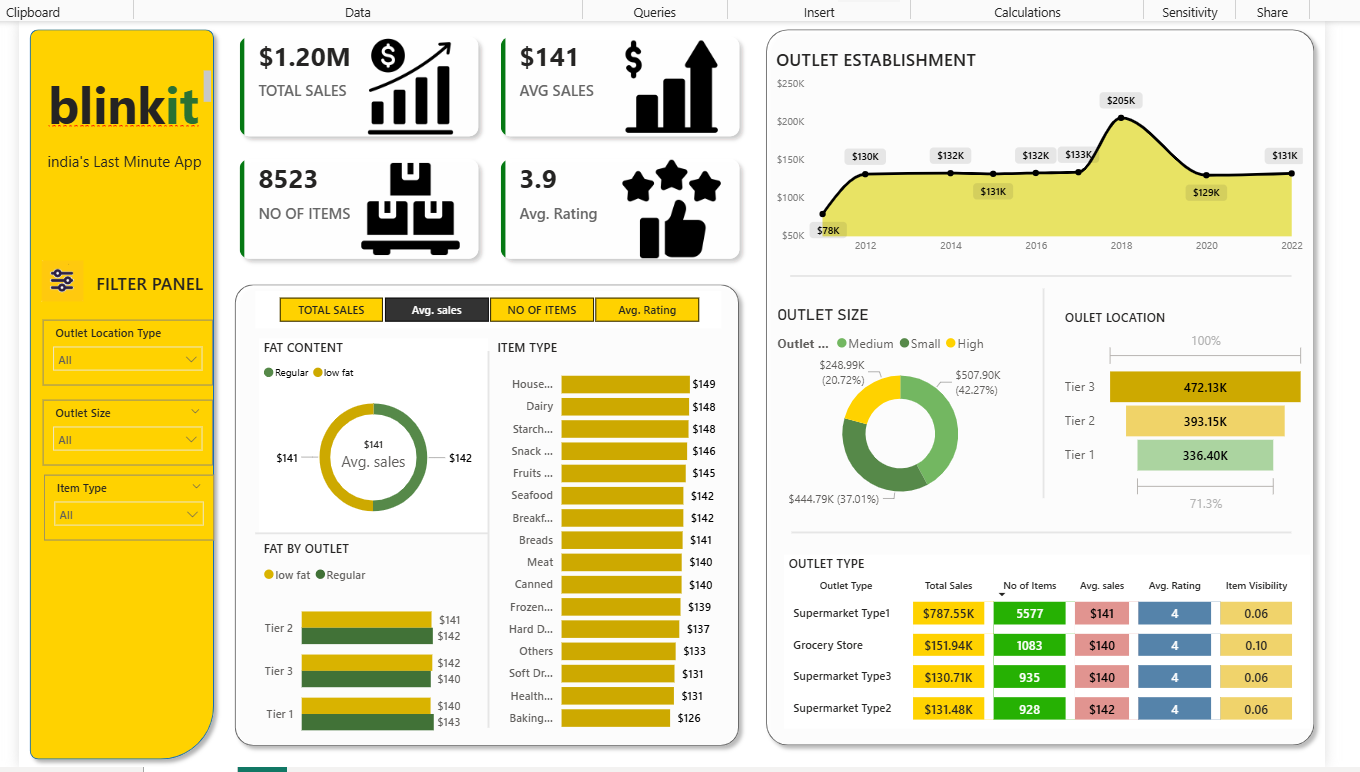

This screenshot's page, from the dashboard's own definition file:
{"tool":"powerbi","page":{"name":"Page 1","canvas":[1400,800],"ordinal":0},"visuals":[{"type":"shape","box":[2.2,0,215.4,801],"z":0},{"type":"textbox","box":[26.9,48.5,184,69.6],"z":1000},{"type":"textbox","box":[25,134.5,200,50],"z":2000},{"type":"shape","box":[222.9,272.9,558.6,512.9],"z":3000},{"type":"donutChart","title":"FAT CONTENT","fields":{"Y":["blinkit dataset.Avg. sales"],"Category":["blinkit dataset.Item Fat Content"]},"box":[257.1,340,245.7,210],"z":4000},{"type":"slicer","fields":{"Values":["Matrix.Matrix"]},"box":[252.9,290,500,40],"z":5000},{"type":"cardVisual","fields":{"Data":["blinkit dataset.TOTAL SALES","blinkit dataset.Avg. sales","blinkit dataset.NO OF ITEMS","blinkit dataset.Avg. Rating"]},"box":[220,0,570,272.5],"z":6000},{"type":"cardVisual","fields":{"Data":["blinkit dataset.Avg. sales"]},"box":[302.9,432.9,154.3,62.9],"z":7000},{"type":"shape","box":[252.9,531.4,250,37.1],"z":8000},{"type":"shape","box":[490,354.3,25.7,404.3],"z":9000},{"type":"barChart","title":"ITEM TYPE","fields":{"Y":["blinkit dataset.Avg. sales"],"Category":["blinkit dataset.Item Type"]},"box":[508.6,340,244.3,431.4],"z":10000},{"type":"shape","box":[792,0,606,786],"z":11000},{"type":"lineChart","title":"OUTLET ESTABLISHMENT","fields":{"Y":["blinkit dataset.TOTAL SALES"],"Category":["blinkit dataset.Outlet Establishment Year"]},"box":[807.5,27.5,575,230],"z":12000},{"type":"shape","box":[827.5,255,537.5,37.5],"z":13000},{"type":"donutChart","title":"OUTLET SIZE","fields":{"Y":["blinkit dataset.TOTAL SALES"],"Category":["blinkit dataset.Outlet Size"]},"box":[808,304,274,226],"z":14000},{"type":"shape","box":[1082.5,287.5,31.2,225],"z":15000},{"type":"funnel","title":"OULET LOCATION","fields":{"Y":["Sum(blinkit dataset.Sales)"],"Category":["blinkit dataset.Outlet Location Type"]},"box":[1116,308,268,224],"z":16000},{"type":"shape","box":[828,530,536,38],"z":17000},{"type":"pivotTable","title":"OUTLET TYPE","fields":{"Rows":["blinkit dataset.Outlet Type"],"Values":["blinkit dataset.TOTAL SALES","blinkit dataset.NO OF ITEMS","blinkit dataset.Avg. sales","blinkit dataset.Avg. Rating","Avg(blinkit dataset.Item Visibility)"]},"box":[820,572,564,186],"z":18000},{"type":"slicer","fields":{"Values":["blinkit dataset.Outlet Location Type"]},"box":[25,320.3,182,70],"z":19000},{"type":"slicer","fields":{"Values":["blinkit dataset.Outlet Size"]},"box":[25,406.3,182,70],"z":20000},{"type":"slicer","fields":{"Values":["blinkit dataset.Item Type"]},"box":[27,486.3,182,70],"z":21000},{"type":"textbox","box":[48.8,264.7,184,42],"z":22000},{"type":"image","box":[10.8,252.7,72,54],"z":23000},{"type":"clusteredBarChart","title":"FAT BY OUTLET","fields":{"Y":["blinkit dataset.Avg. sales"],"Category":["blinkit dataset.Outlet Location Type"],"Series":["blinkit dataset.Item Fat Content"]},"box":[257.1,555.7,221.4,230],"z":24000}]}

Visuals, with their boxes on the page's 1400x800 design canvas (x1, y1, x2, y2). These are canvas units, not pixel positions in the 1360x772 screenshot, which may show the page scaled, cropped or inside an application window:
shape: (x1=2, y1=0, x2=218, y2=801)
textbox: (x1=27, y1=48, x2=211, y2=118)
textbox: (x1=25, y1=134, x2=225, y2=184)
shape: (x1=223, y1=273, x2=782, y2=786)
"FAT CONTENT" donutChart: (x1=257, y1=340, x2=503, y2=550)
slicer - Matrix.Matrix: (x1=253, y1=290, x2=753, y2=330)
cardVisual - blinkit dataset.TOTAL SALES x blinkit dataset.Avg. sales: (x1=220, y1=0, x2=790, y2=272)
cardVisual - blinkit dataset.Avg. sales: (x1=303, y1=433, x2=457, y2=496)
shape: (x1=253, y1=531, x2=503, y2=568)
shape: (x1=490, y1=354, x2=516, y2=759)
"ITEM TYPE" barChart: (x1=509, y1=340, x2=753, y2=771)
shape: (x1=792, y1=0, x2=1398, y2=786)
"OUTLET ESTABLISHMENT" lineChart: (x1=808, y1=28, x2=1382, y2=258)
shape: (x1=828, y1=255, x2=1365, y2=292)
"OUTLET SIZE" donutChart: (x1=808, y1=304, x2=1082, y2=530)
shape: (x1=1082, y1=288, x2=1114, y2=512)
"OULET LOCATION" funnel: (x1=1116, y1=308, x2=1384, y2=532)
shape: (x1=828, y1=530, x2=1364, y2=568)
"OUTLET TYPE" pivotTable: (x1=820, y1=572, x2=1384, y2=758)
slicer - blinkit dataset.Outlet Location Type: (x1=25, y1=320, x2=207, y2=390)
slicer - blinkit dataset.Outlet Size: (x1=25, y1=406, x2=207, y2=476)
slicer - blinkit dataset.Item Type: (x1=27, y1=486, x2=209, y2=556)
textbox: (x1=49, y1=265, x2=233, y2=307)
image: (x1=11, y1=253, x2=83, y2=307)
"FAT BY OUTLET" clusteredBarChart: (x1=257, y1=556, x2=478, y2=786)
